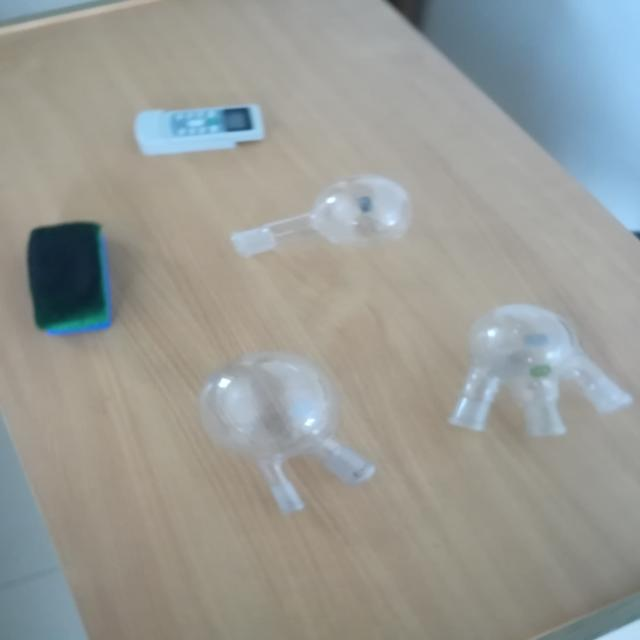Round_Bottom_Flask_Borosilicate_Glass_1_Neck: (224, 170, 425, 275)
Round_Bottom_Flask_Borosilicate_Glass_2_Neck: (196, 312, 390, 522)
Round_Bottom_Flask_Borosilicate_Glass_3_Neck: (437, 289, 640, 470)
